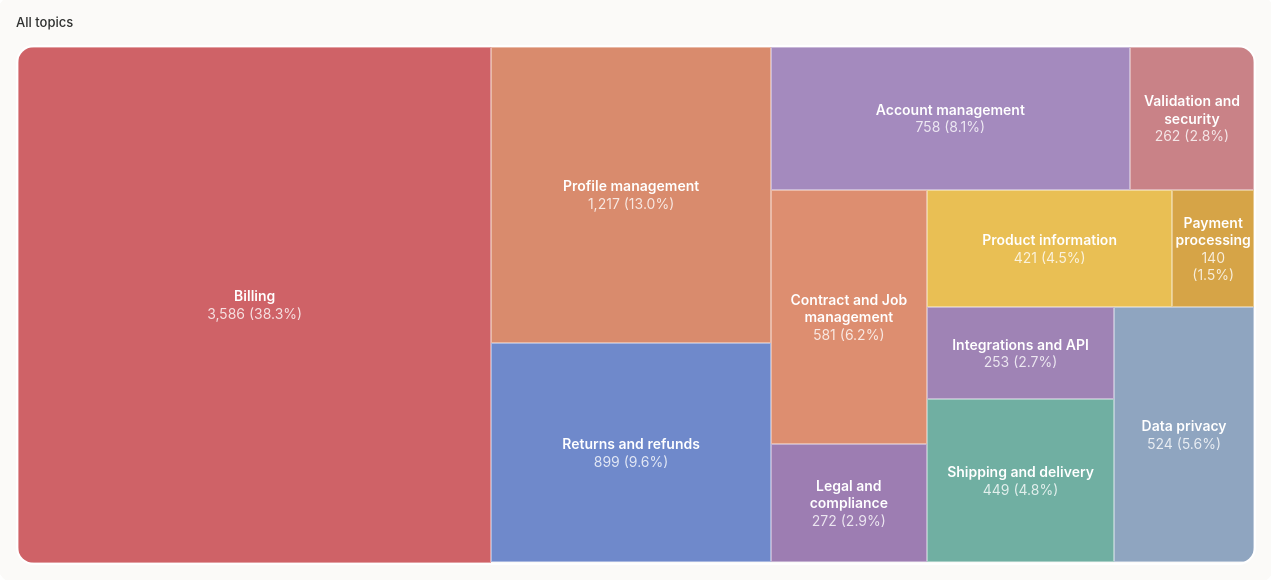
Scenario: TopicTreemap › shows the tooltip with topic metrics on hover
Hover over the button "Billing 3,586 (38.3%)".
mouse_move(255, 304)  # box x1=18 y1=46 x2=491 y2=562
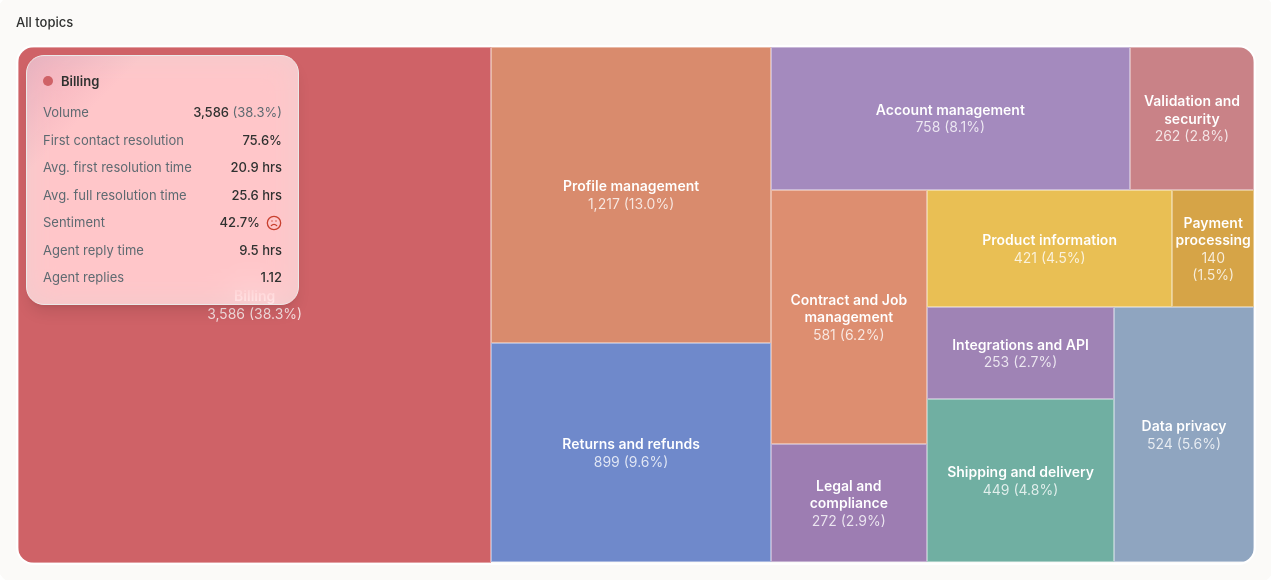
Now the text "Avg. first resolution time" is shown, box x1=43 y1=158 x2=192 y2=178
